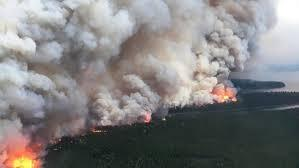fire: (2, 141, 46, 168), (213, 86, 238, 102), (143, 112, 151, 123)
yanwu: (0, 1, 282, 133)
